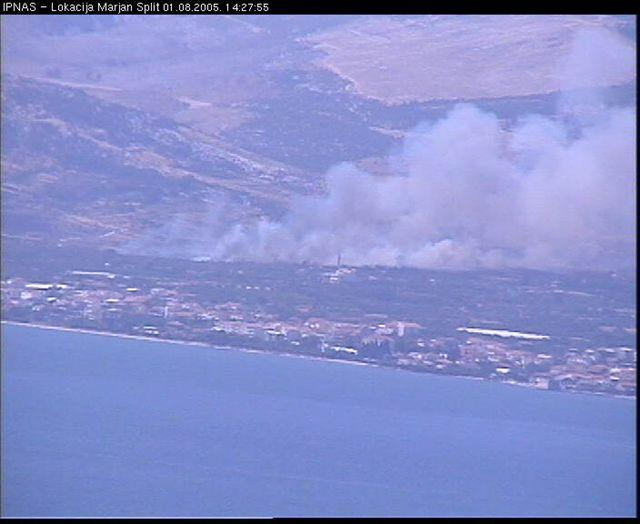Smoke: (106, 25, 638, 267)
